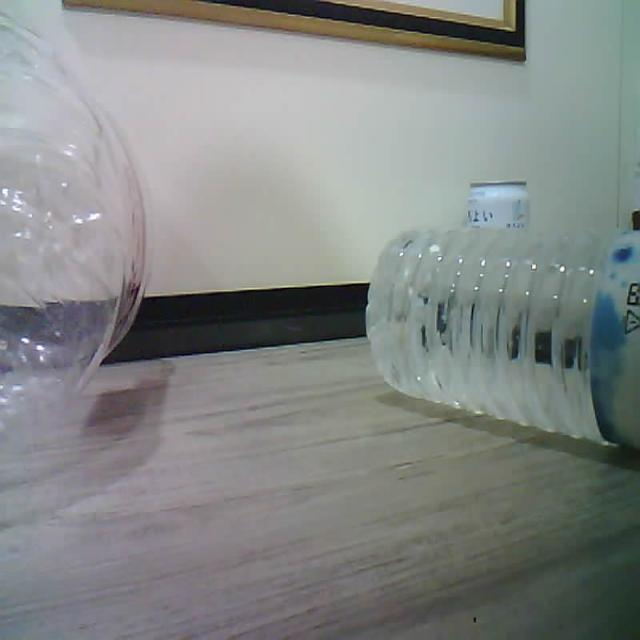bottle: (0, 2, 146, 428), (366, 230, 639, 448)
can: (467, 181, 528, 229)
